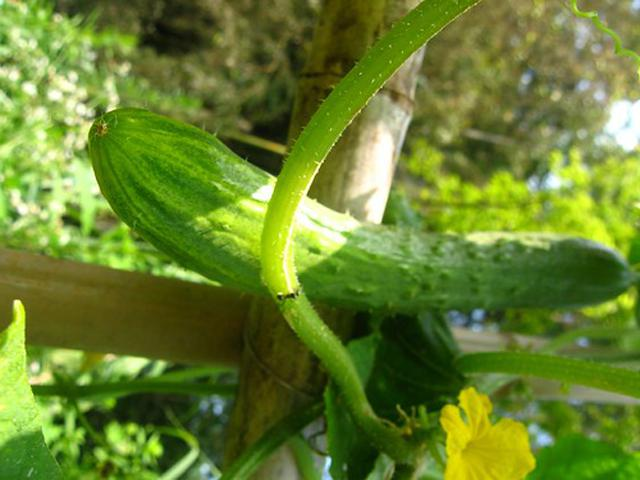cucumber: (87, 110, 635, 311)
